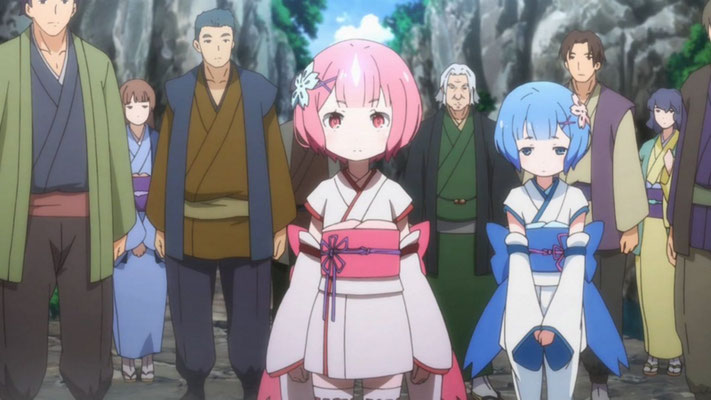rem: (487, 81, 608, 397)
